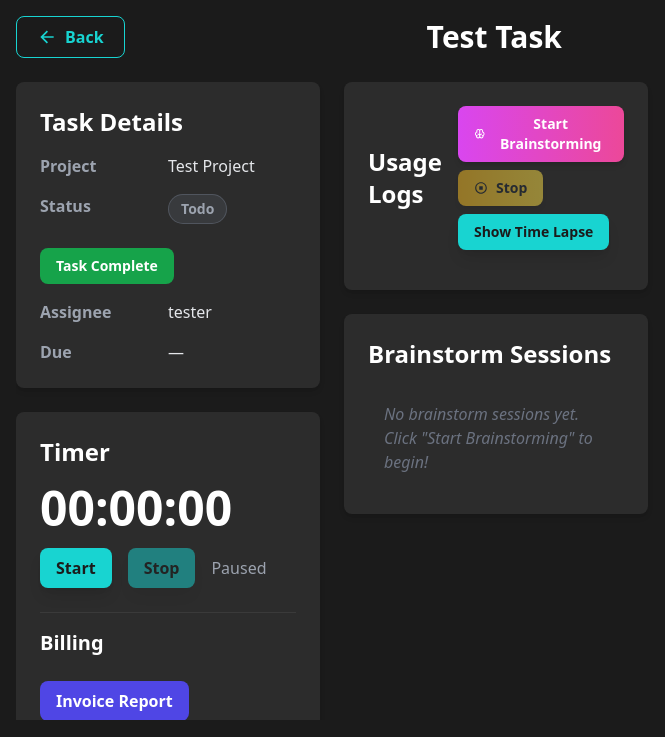
Test: TaskPage Component › does not crash when time-entries are empty and toggling time-lapse
Expected: the heading "Test Task" is shown, x1=427 y1=19 x2=562 y2=55
Note: toggle time lapse open / close
Click the button "Show Time Lapse" at (534, 232), box x1=458 y1=214 x2=609 y2=250
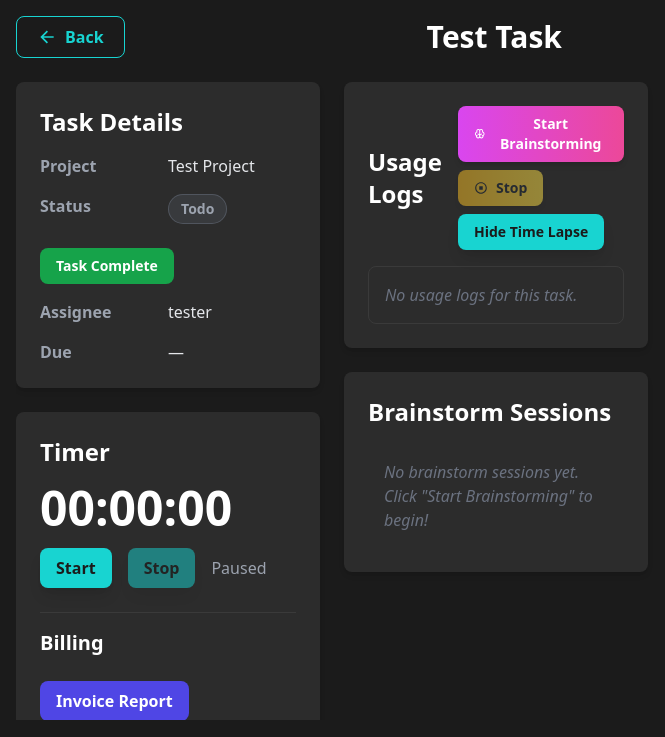
Expected: the button "Hide Time Lapse" is shown
Click the button "Hide Time Lapse" at (531, 232), box x1=458 y1=214 x2=604 y2=250
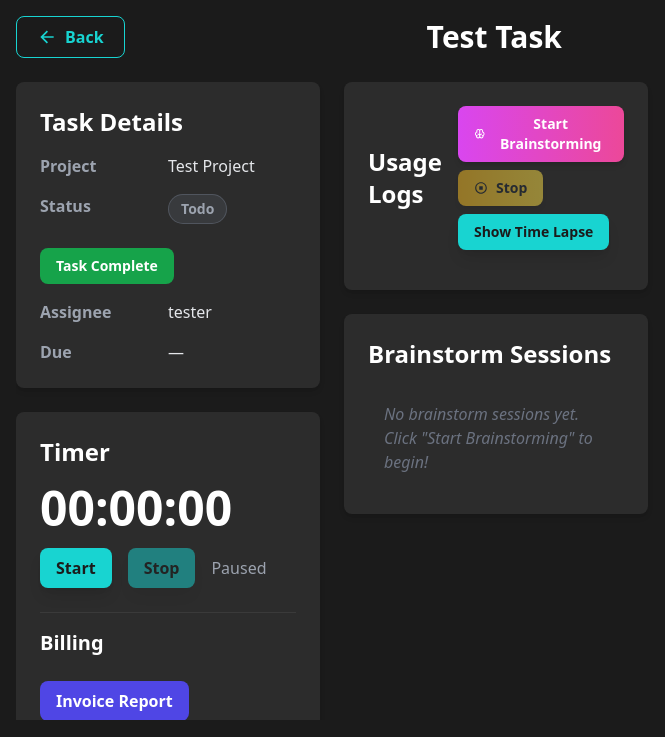
Expected: the button "Show Time Lapse" is shown, x1=458 y1=214 x2=609 y2=250
